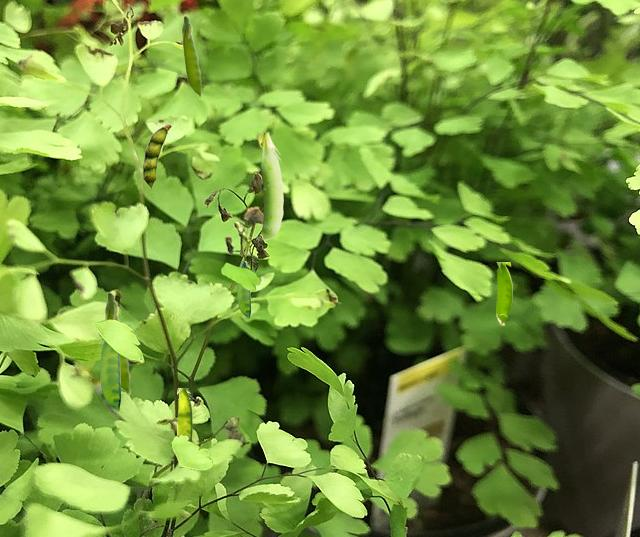pea: (256, 129, 282, 239), (104, 291, 130, 396), (143, 124, 170, 191), (181, 15, 201, 98), (100, 339, 119, 411), (496, 262, 511, 324), (177, 388, 191, 440), (237, 261, 249, 318)
